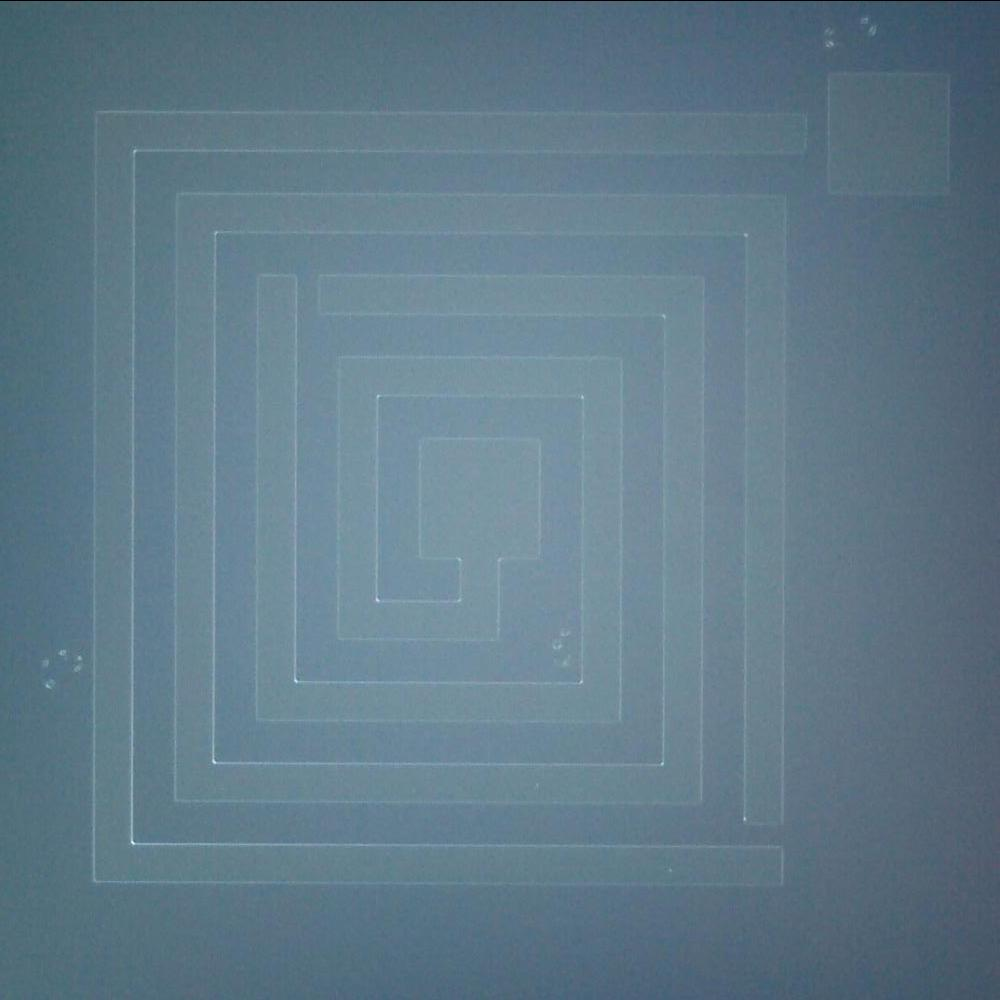short circuit: (728, 799, 802, 866), (783, 99, 844, 169), (283, 263, 337, 330)
